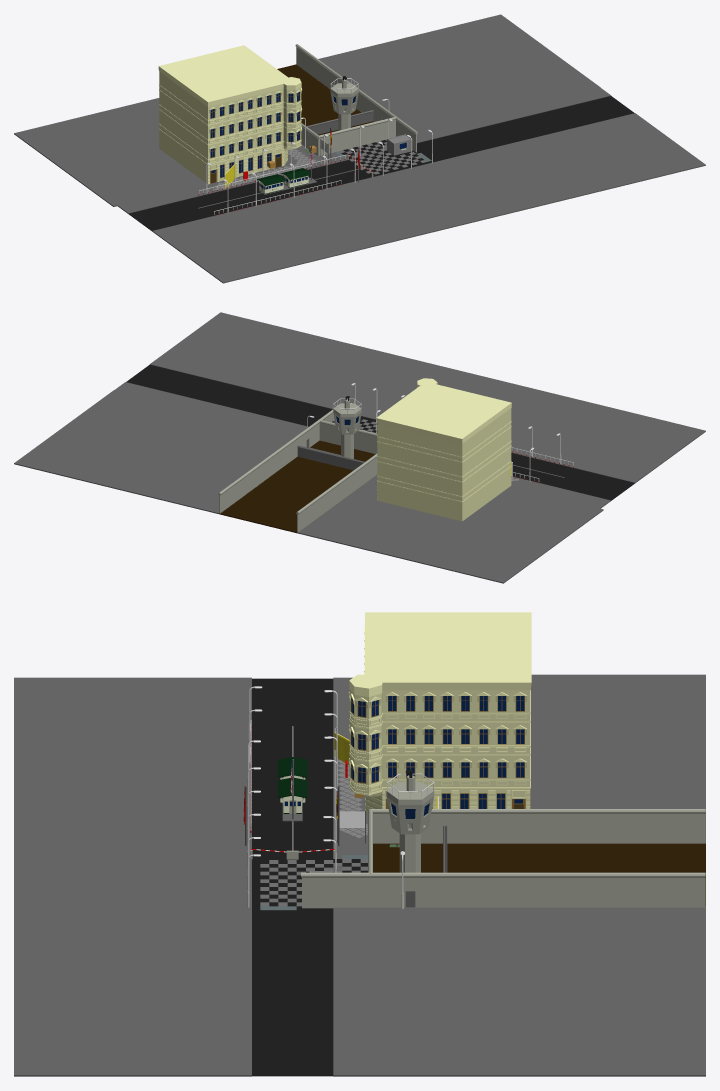
File: cpc.glb
3 views of the same model, one above another, from view 1: azimuth 30°, elevation 25°; view 2: azimuth 150°, elevation 25°; view 3: azimuth 270°, elevation 25° (orthographic). The views are drawn at different scales.
Visible parts, largest first — view 1: Cube.002, Cube.093, Cube.084, Cube, Cube.016, Cube.001, Cube.013, Cube.005, Cube.014, Cube.090, Cube.003, Cube.098 (+10 smaller); view 2: Cube.002, Cube.093, Cube.084, Cube, Cube.090, Cube.016, Cube.001, Cube.003, Cube.013, Cube.005, Cube.014, Cube.098 (+5 smaller); view 3: Cube.002, Cube.093, Cube, Cube.084, Cube.016, Cube.098, Cube.083, Cube.090, Cube.001, Cube.022, Cube.013, Cube.014 (+12 smaller).
Part boxes in pixels (<box>): Cube.002: <box>152,113,705,283</box>; Cube.093: <box>318,14,600,131</box>; Cube.084: <box>14,98,317,206</box>; Cube: <box>128,96,634,231</box>; Cube.016: <box>158,45,287,106</box>; Cube.001: <box>117,87,611,213</box>; Cube.013: <box>159,91,283,144</box>; Cube.005: <box>159,110,283,163</box>; Cube.014: <box>159,72,283,124</box>; Cube.090: <box>277,64,373,135</box>; Cube.003: <box>159,130,287,183</box>; Cube.098: <box>296,47,416,152</box>; Cube.002: <box>149,312,705,483</box>; Cube.093: <box>14,390,297,513</box>; Cube.084: <box>297,475,603,583</box>; Cube: <box>126,365,634,500</box>; Cube.090: <box>219,440,375,533</box>; Cube.016: <box>376,384,511,443</box>; Cube.001: <box>115,382,610,508</box>; Cube.003: <box>377,467,511,521</box>; Cube.013: <box>377,427,511,481</box>; Cube.005: <box>377,447,511,501</box>; Cube.014: <box>377,408,511,461</box>; Cube.098: <box>219,413,334,513</box>; Cube.002: <box>14,677,251,1076</box>; Cube.093: <box>370,906,705,1076</box>; Cube: <box>252,678,333,1076</box>; Cube.084: <box>530,674,705,842</box>; Cube.016: <box>365,612,531,690</box>; Cube.098: <box>302,877,705,908</box>; Cube.083: <box>373,813,705,843</box>; Cube.090: <box>373,843,705,905</box>; Cube.001: <box>333,677,370,1076</box>; Cube.022: <box>388,696,524,808</box>; Cube.013: <box>382,722,530,753</box>; Cube.014: <box>382,690,530,720</box>.
Bounding box in the file's own units: 104 × 17.84 × 75.71.
36 materials, 1 textured.
